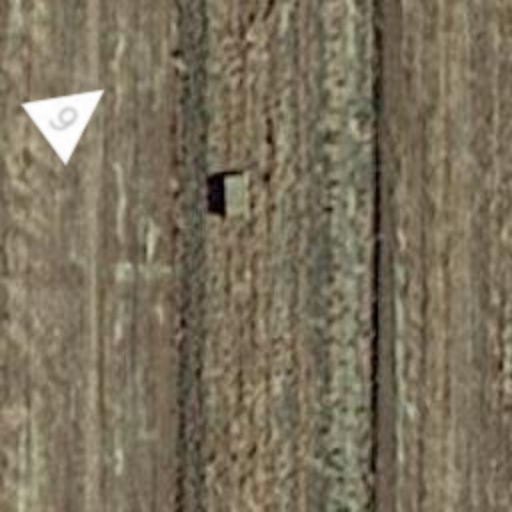triangle: (20, 58, 128, 166)
